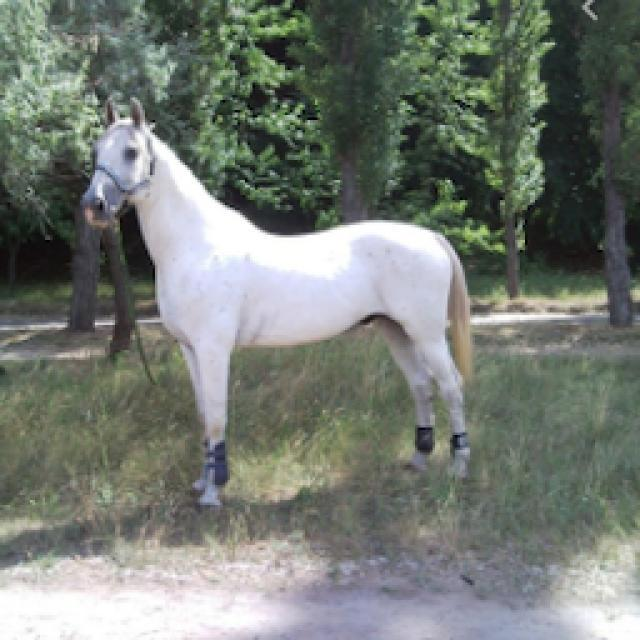Horse: (75, 92, 485, 512)
